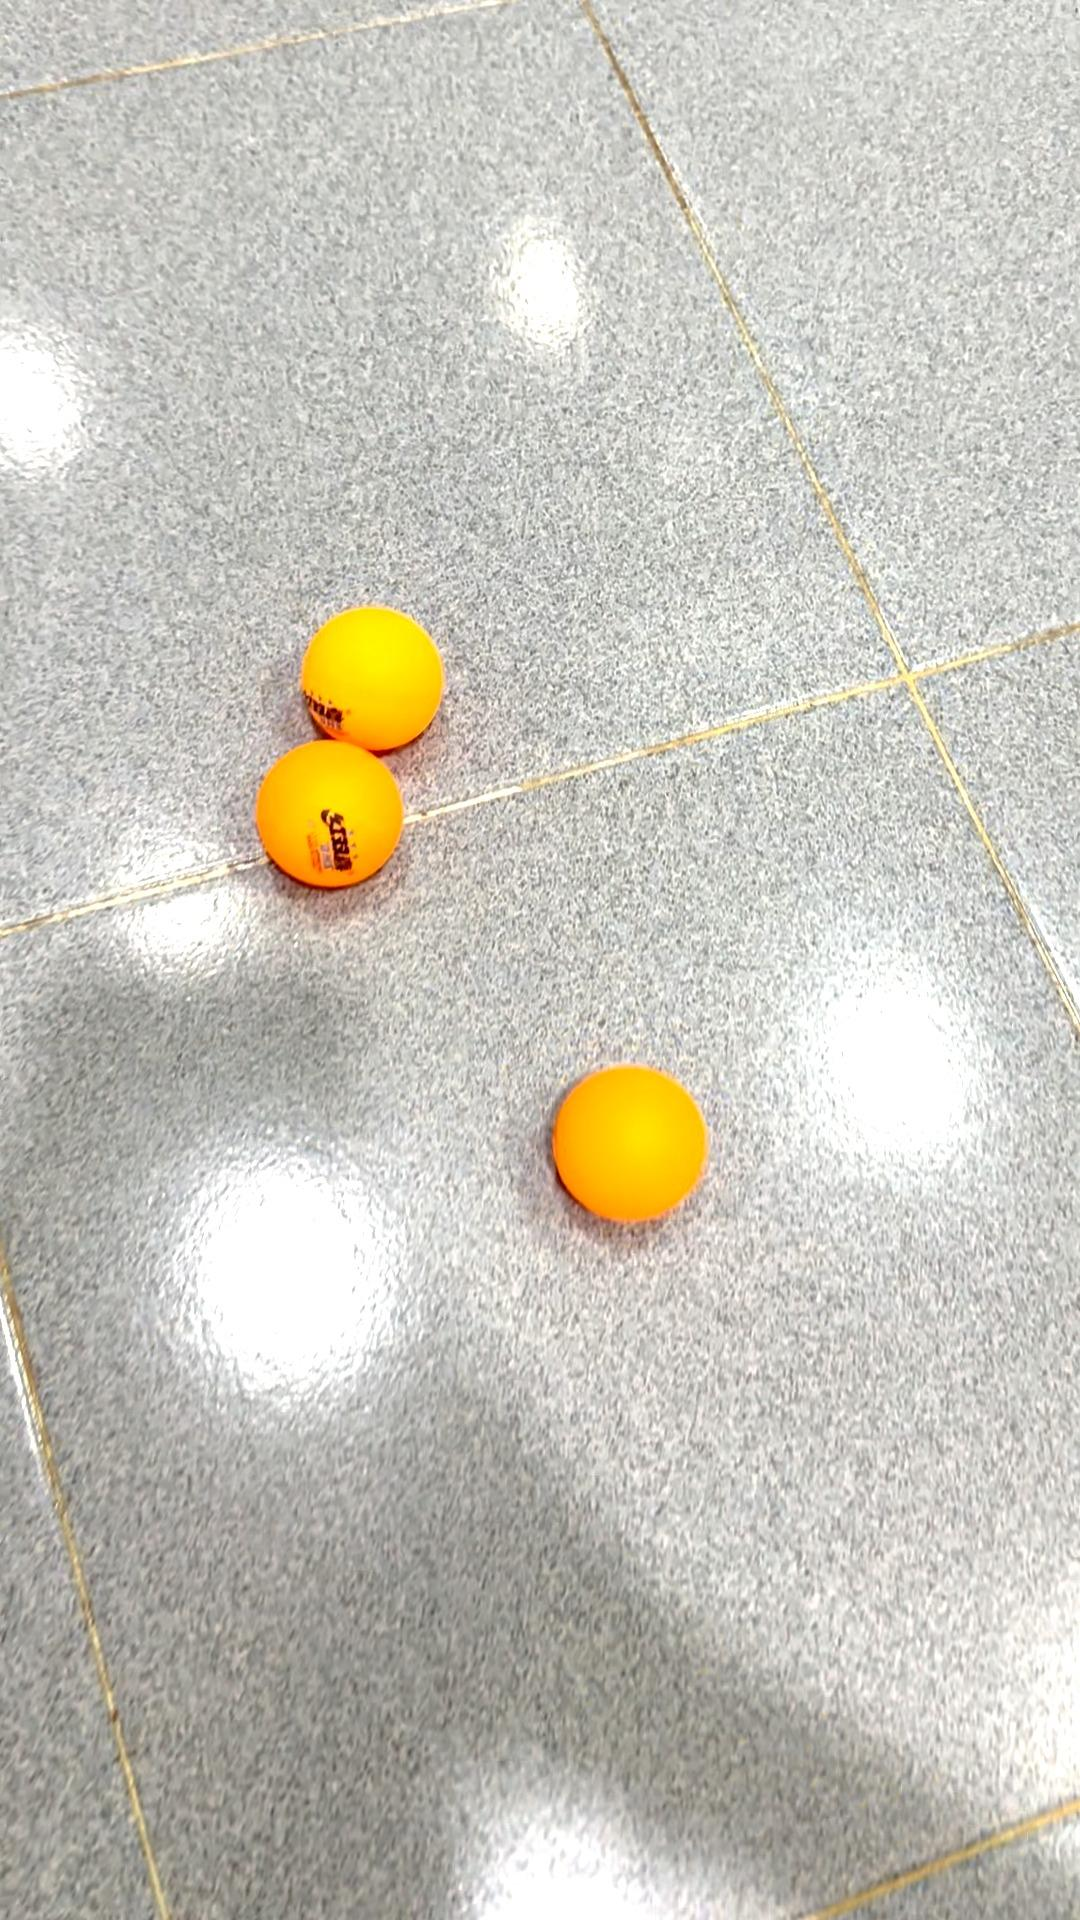oball: (545, 1051, 727, 1234), (287, 597, 455, 756), (248, 752, 422, 899)
